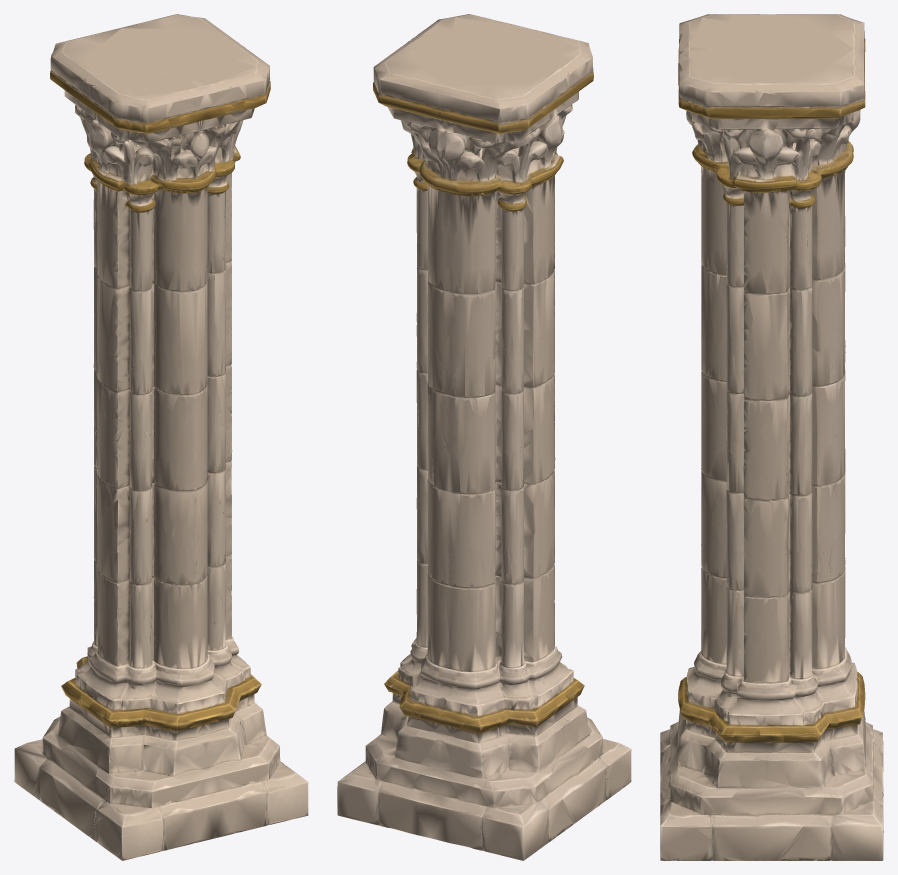
File: LowPillar.fbx
The picture shows the model from 3 angles, left to right: view 1: azimuth 30°, elevation 25°; view 2: azimuth 150°, elevation 25°; view 3: azimuth 270°, elevation 25°; orthographic projection. The views are drawn at different scales.
Visible parts, largest first — view 1: Mesh_Low; view 2: Mesh_Low; view 3: Mesh_Low.
Part boxes in pixels (<box>): Mesh_Low: <box>14,14,308,860</box>; Mesh_Low: <box>337,14,631,860</box>; Mesh_Low: <box>660,14,883,860</box>.
Size of the model in its own units: 50.21 by 190 by 50.38.
Materials: 1 (1 with a texture image).
